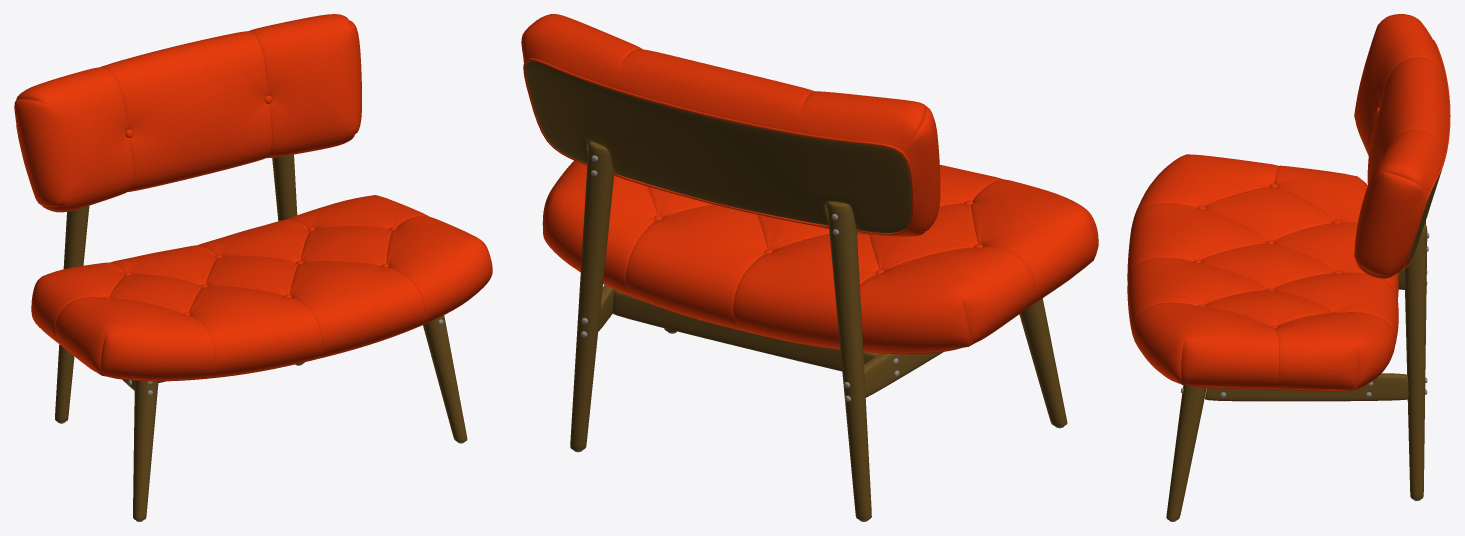
File: SheenChair.gltf
3 views of the same model, side by side, from view 1: azimuth 30°, elevation 25°; view 2: azimuth 150°, elevation 25°; view 3: azimuth 270°, elevation 25° (orthographic). The views are drawn at different scales.
Parts seen in each view (by area): view 1: SheenChair_fabric, SheenChair_wood; view 2: SheenChair_fabric, SheenChair_wood; view 3: SheenChair_fabric, SheenChair_wood.
Part boxes in pixels (left/top/right/bottom): SheenChair_fabric: left=14, top=14, right=492, bottom=381; SheenChair_wood: left=55, top=154, right=467, bottom=520; SheenChair_fabric: left=521, top=14, right=1098, bottom=354; SheenChair_wood: left=525, top=61, right=1067, bottom=520; SheenChair_fabric: left=1127, top=14, right=1450, bottom=391; SheenChair_wood: left=1166, top=170, right=1441, bottom=520.
Bounding box in the file's own units: 0.8266 × 0.6862 × 0.5703.
